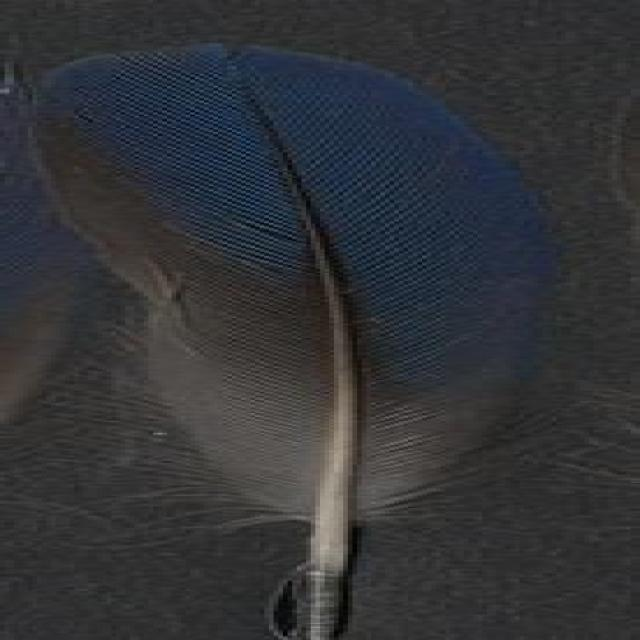feather: (26, 45, 562, 640)
